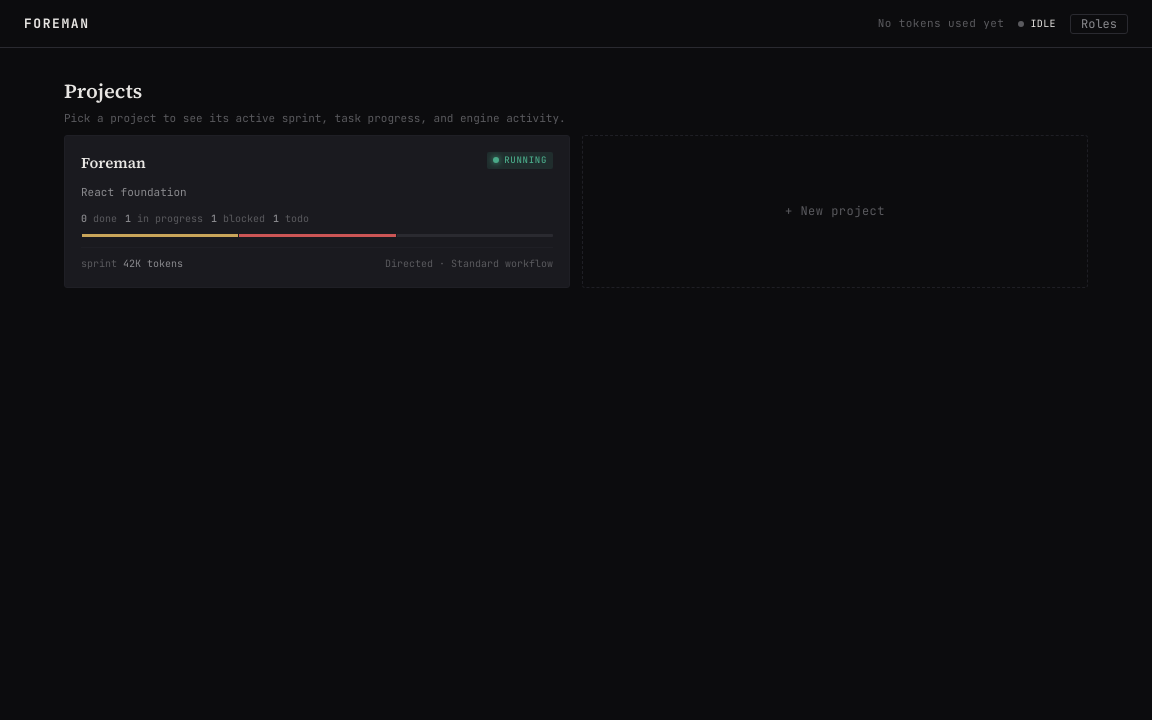
Test: React dashboard foundation › opens the roles modal from the topbar and lists roles
The image size is (1152, 720).
Expected: the text "Projects" is shown, [64,77,142,105]
Step 1. Click the button "Roles" → (1099, 24), box [1070,14,1128,34]
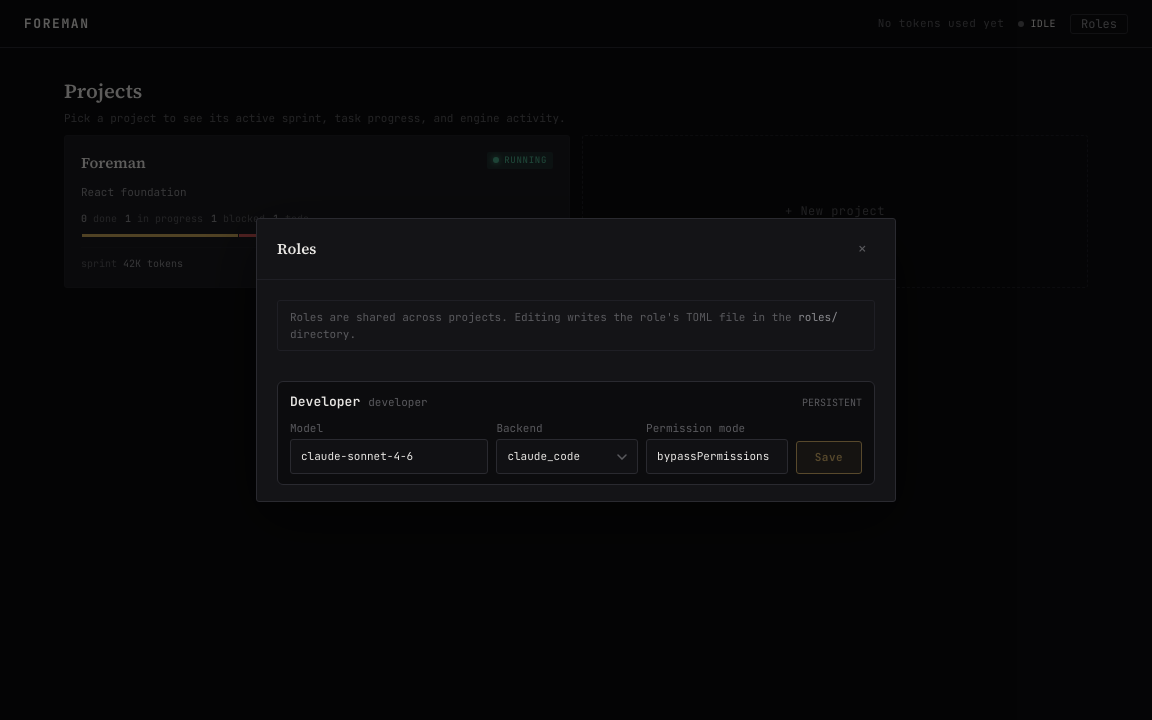
Result: the text "Developer" is shown at [290,392,360,412]
